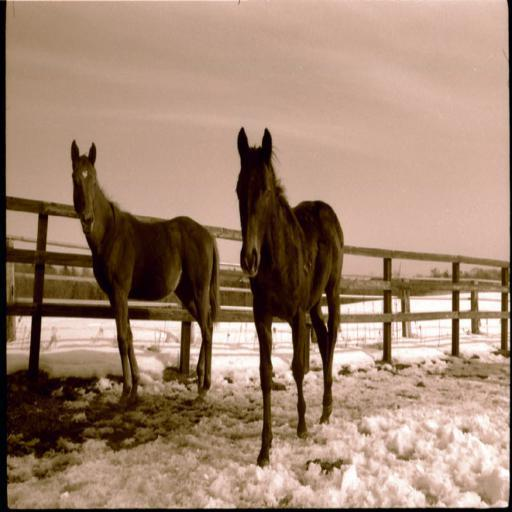horse: (70, 138, 220, 400), (232, 126, 346, 469)
